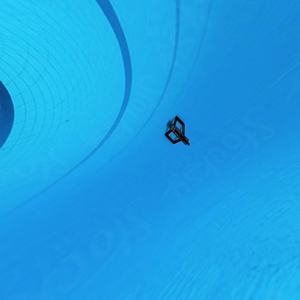submarine: (164, 113, 191, 149)
